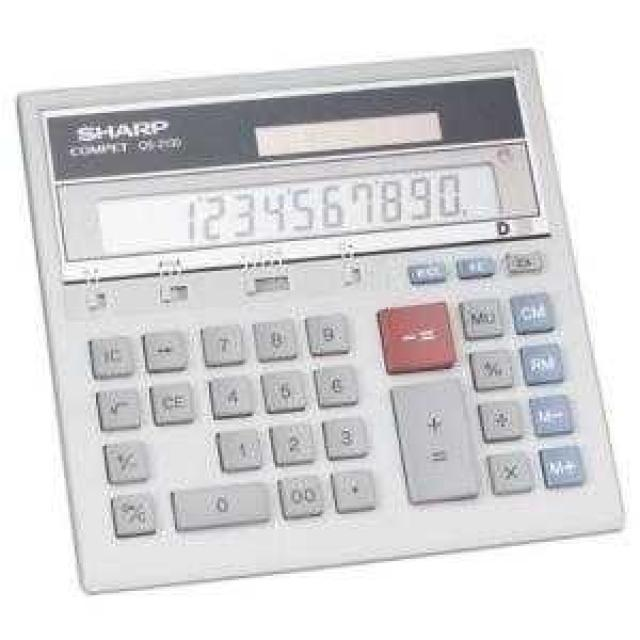Calculator: (13, 45, 627, 595)
